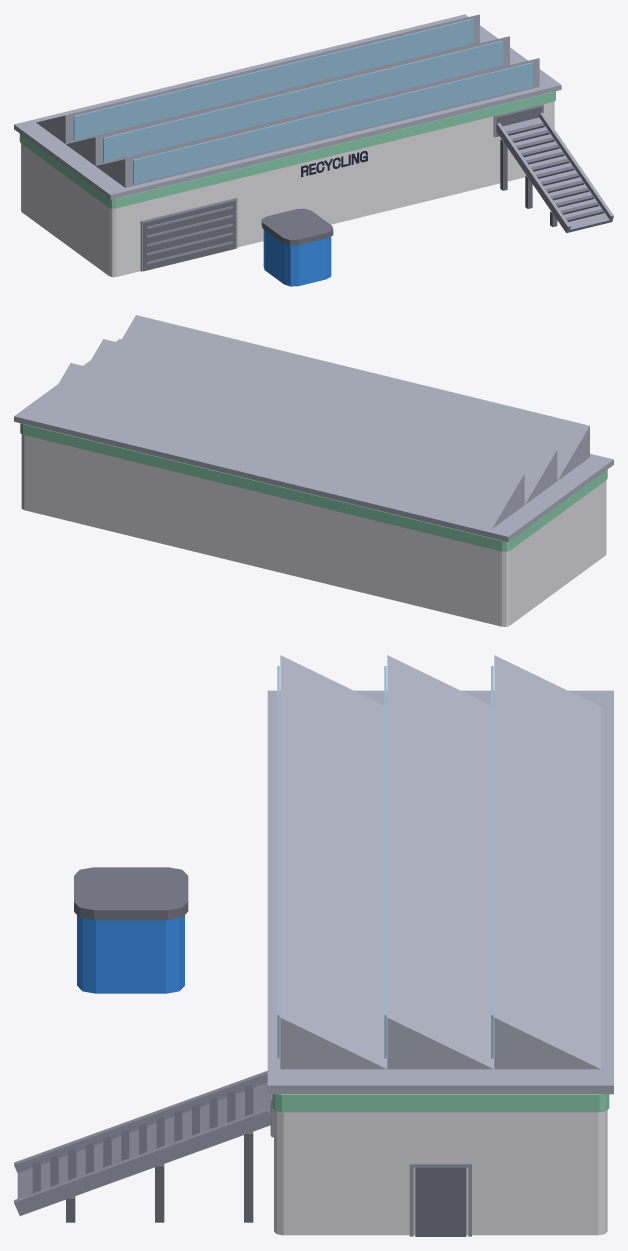
The model's file is recycling-3x2-t1.glb.
3 renders of one model, top to bottom at view 1: azimuth 30°, elevation 25°; view 2: azimuth 150°, elevation 25°; view 3: azimuth 270°, elevation 25°, orthographic. The views are drawn at different scales.
Visible parts, largest first — view 1: recycling-3x2-t1; view 2: recycling-3x2-t1; view 3: recycling-3x2-t1.
Part boxes in pixels (x1=…): recycling-3x2-t1: x1=14, y1=14, x2=613, y2=286; recycling-3x2-t1: x1=14, y1=315, x2=613, y2=626; recycling-3x2-t1: x1=14, y1=655, x2=613, y2=1236.
Bounding box in the file's own units: 2.94 × 0.71 × 1.89.
Materials: 1 (1 with a texture image).
